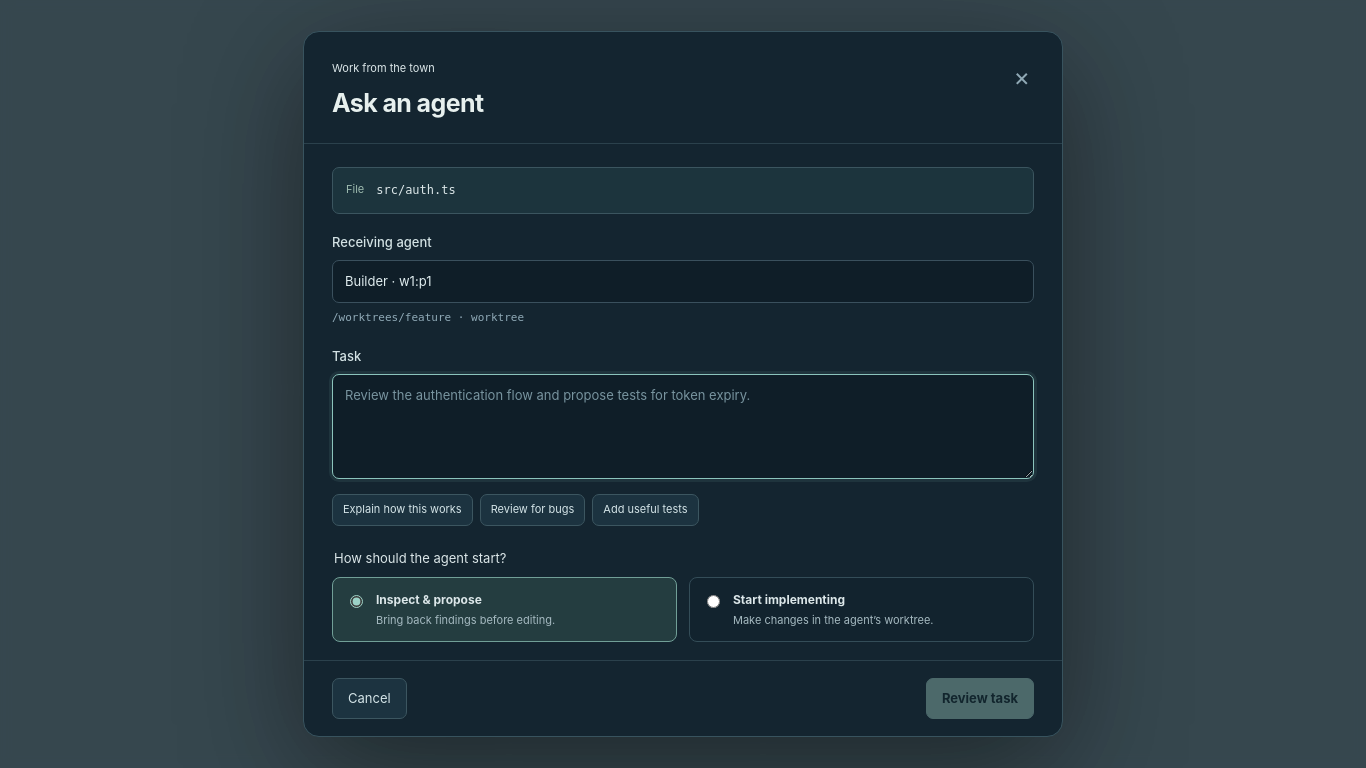
Test: previews a file-scoped worktree-aware task, then sends only the explicitly reviewed text
Replace the text in the text box labelled "Task" with "Review token expiry": (683, 426) [332,374,1034,479]
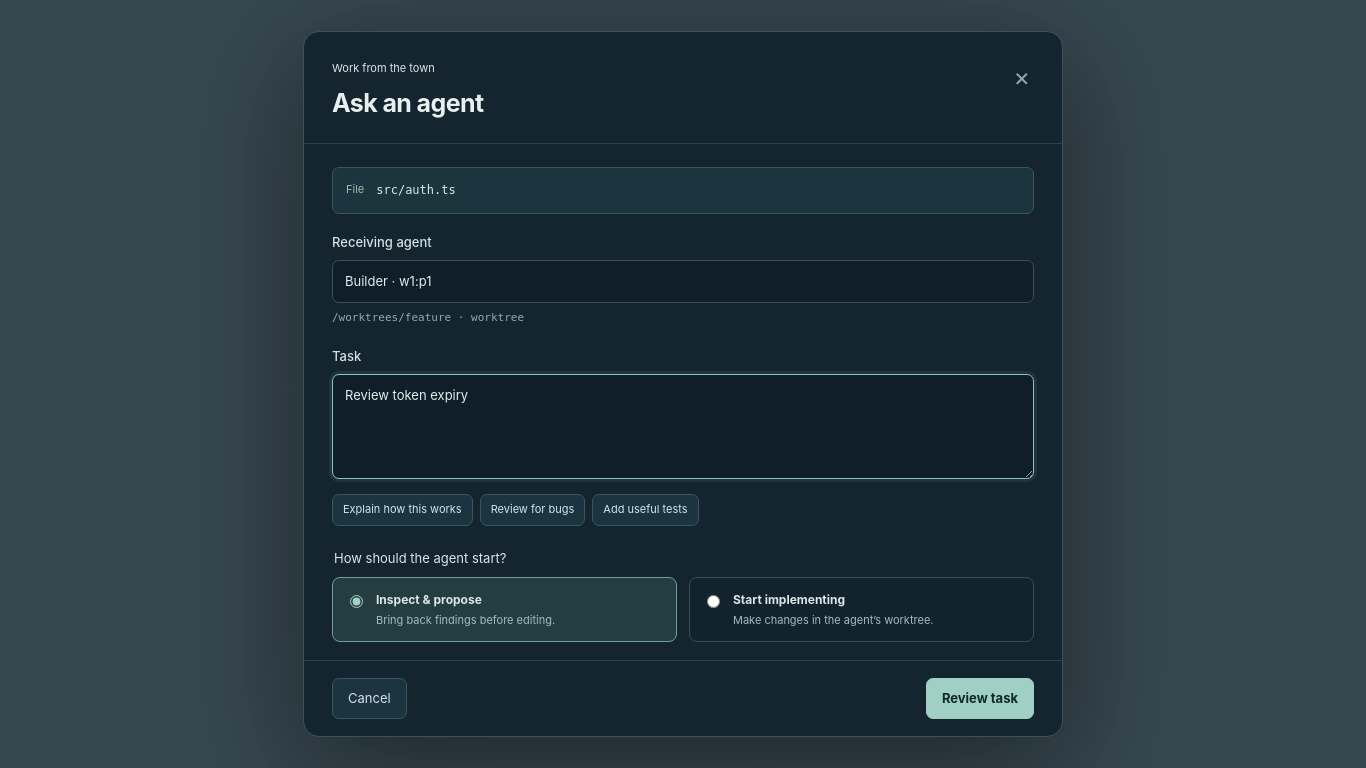
Click the button "Review task": (980, 699) [926,678,1034,719]
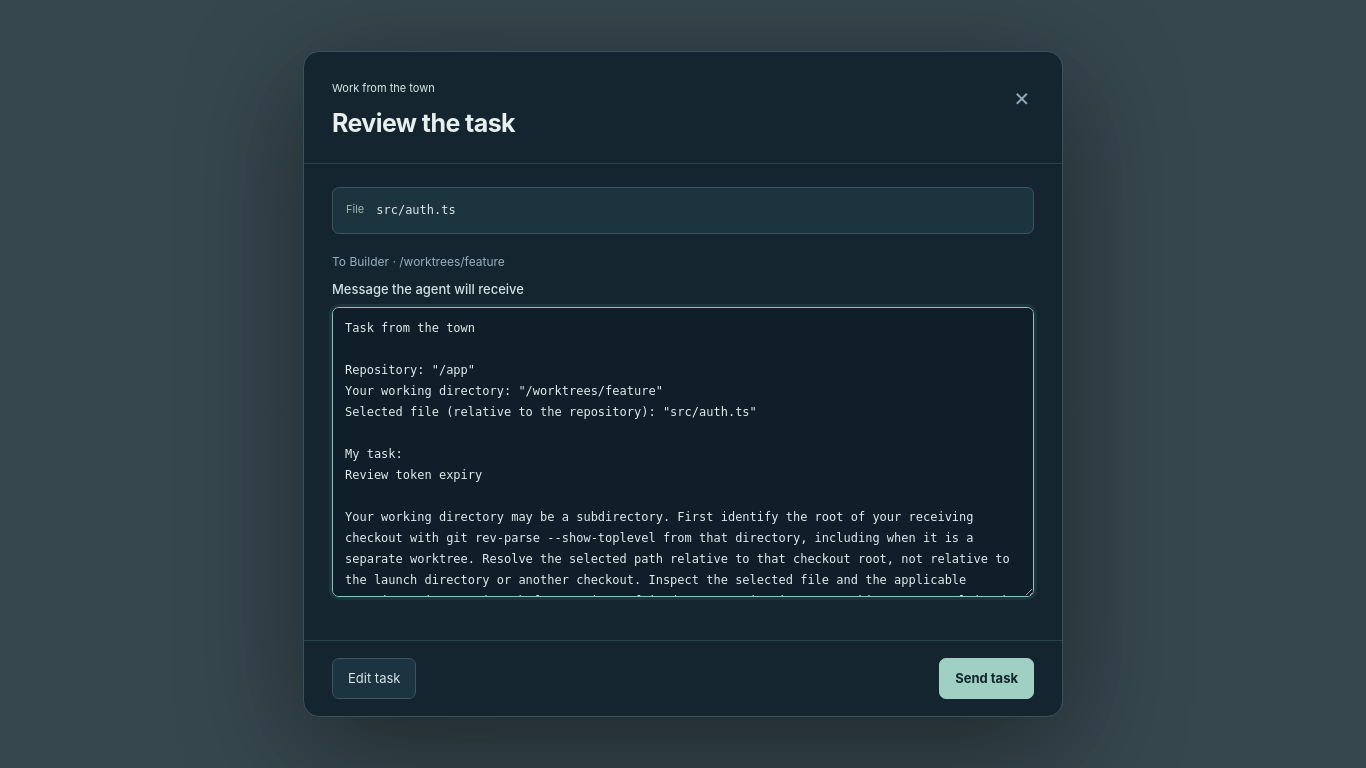
Replace the text in the text box labelled "Message the agent will receive" with "Reviewed exact task": (683, 452) [332,307,1034,597]
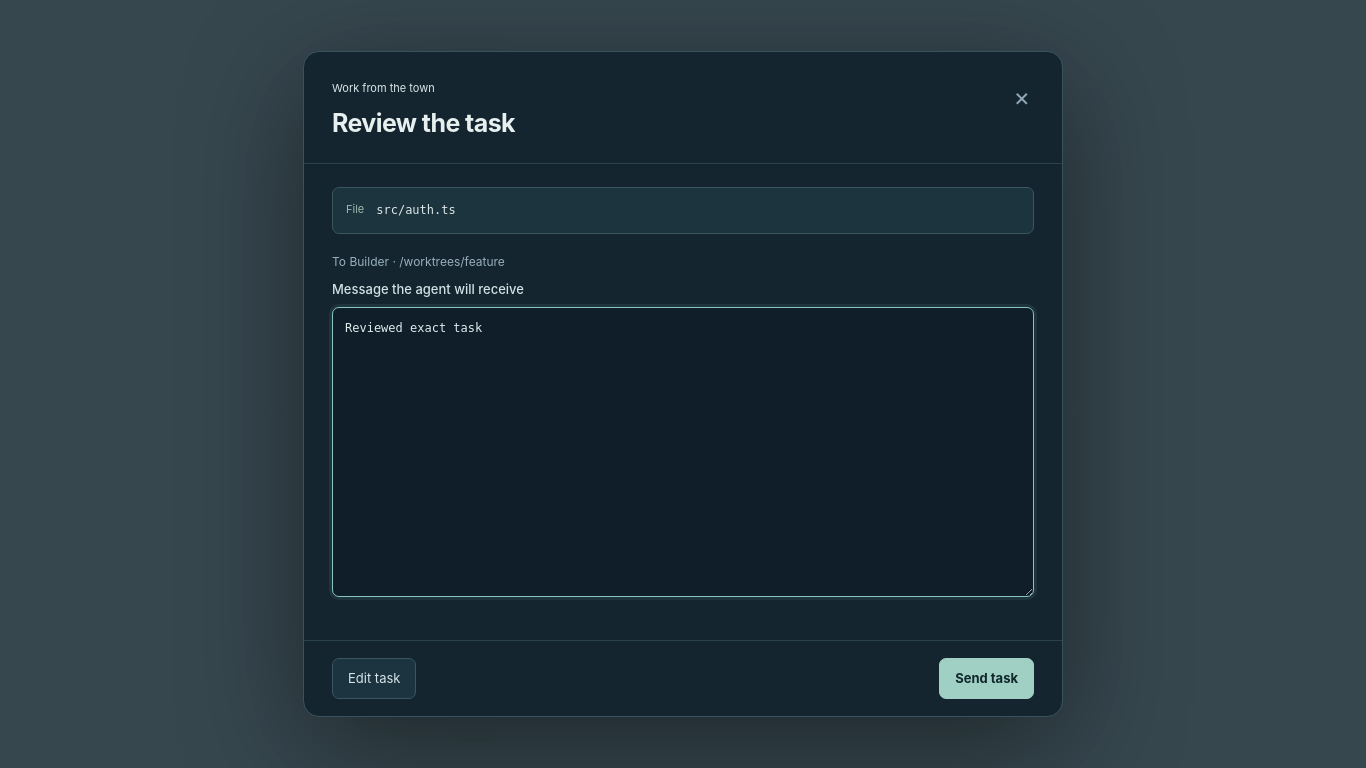
Click the button "Send task": (987, 678) [939,658,1034,699]
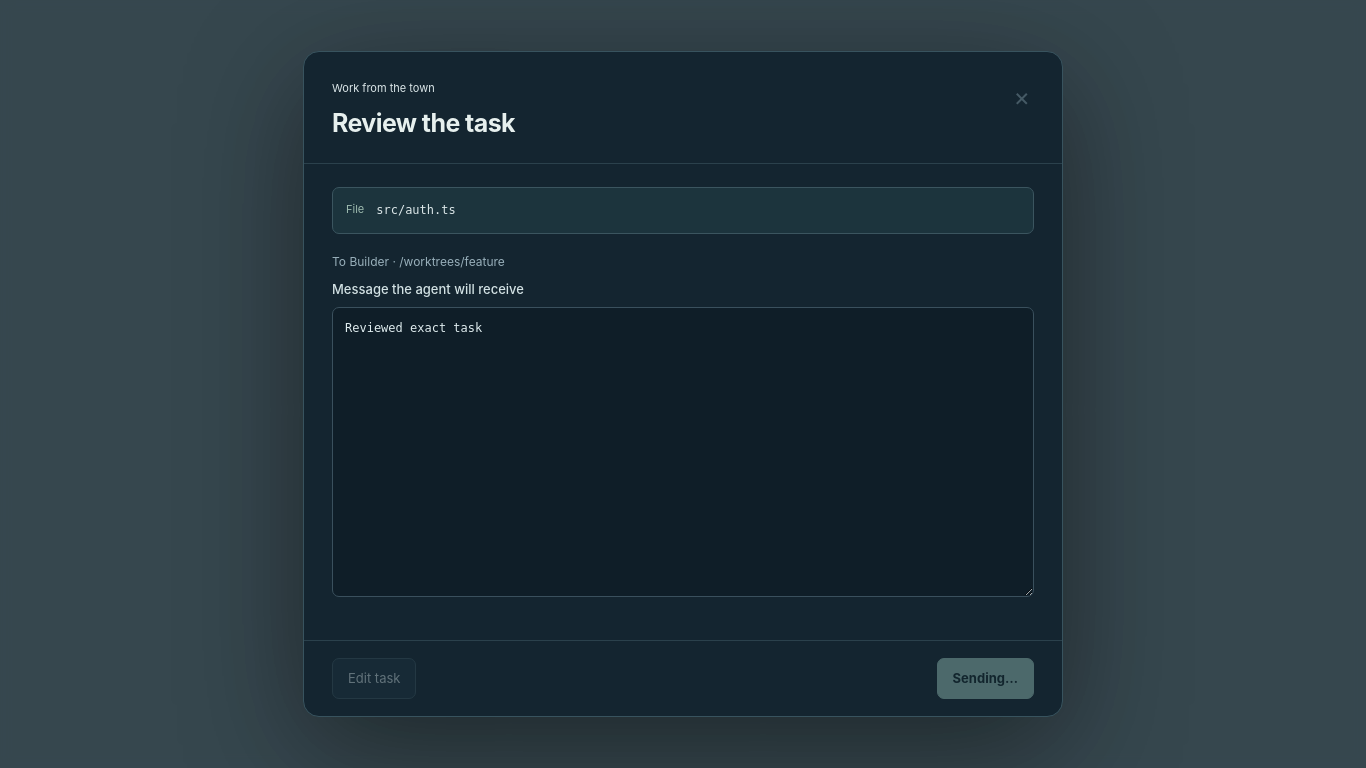
Click the button named "Send task": (985, 678) [937,658,1034,699]
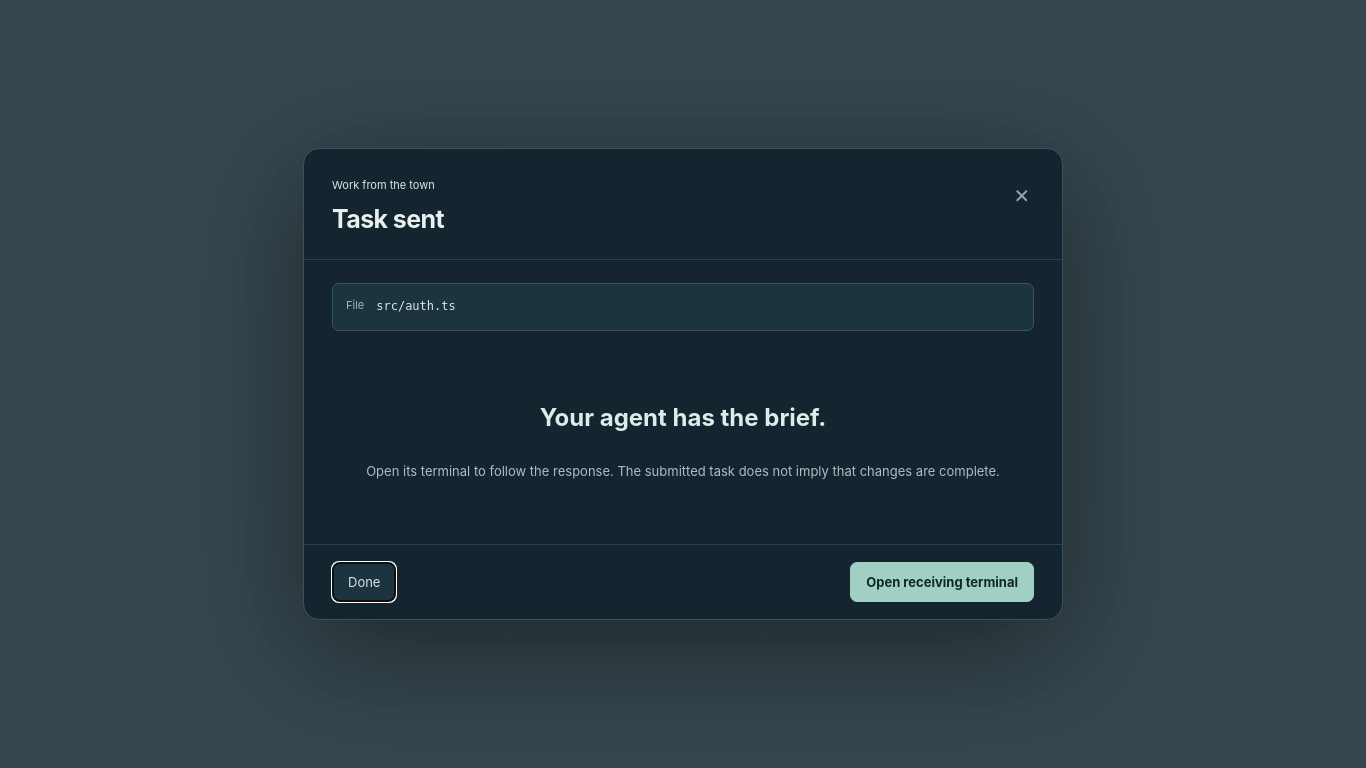
expect the heading "Task sent" is shown: met, box [332,199,444,239]
